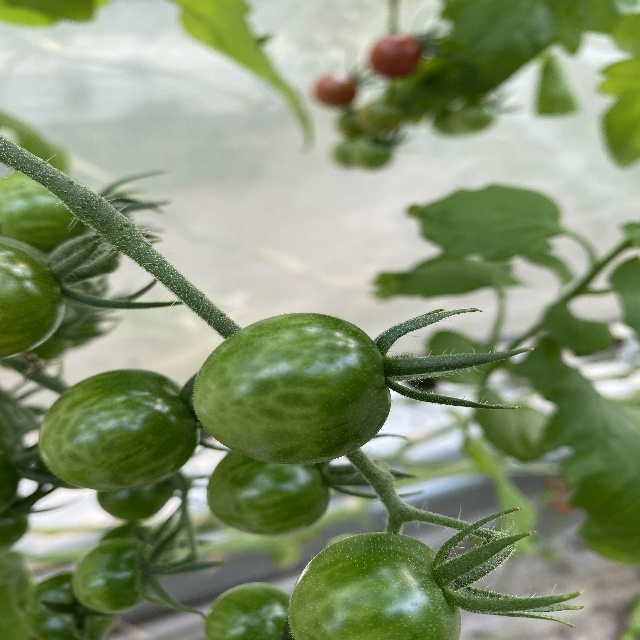l_green: (191, 312, 391, 465), (38, 368, 198, 491), (287, 533, 462, 639), (207, 450, 330, 535), (0, 235, 65, 360)
